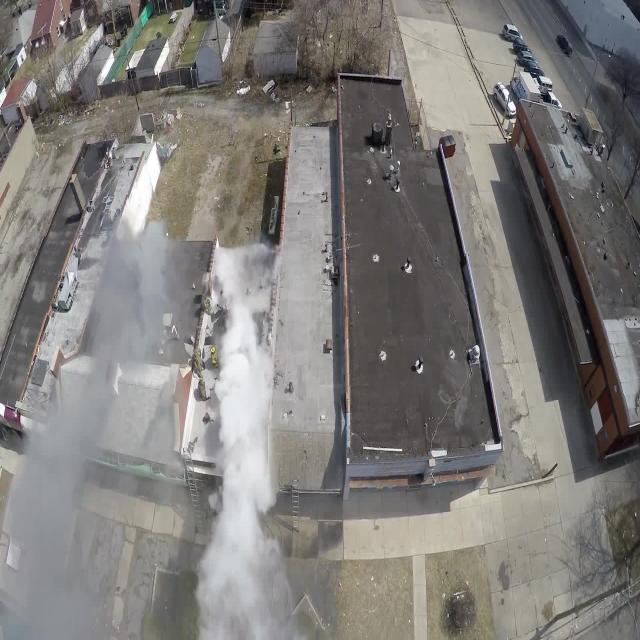Smoke: (8, 218, 173, 640), (205, 284, 277, 640)
